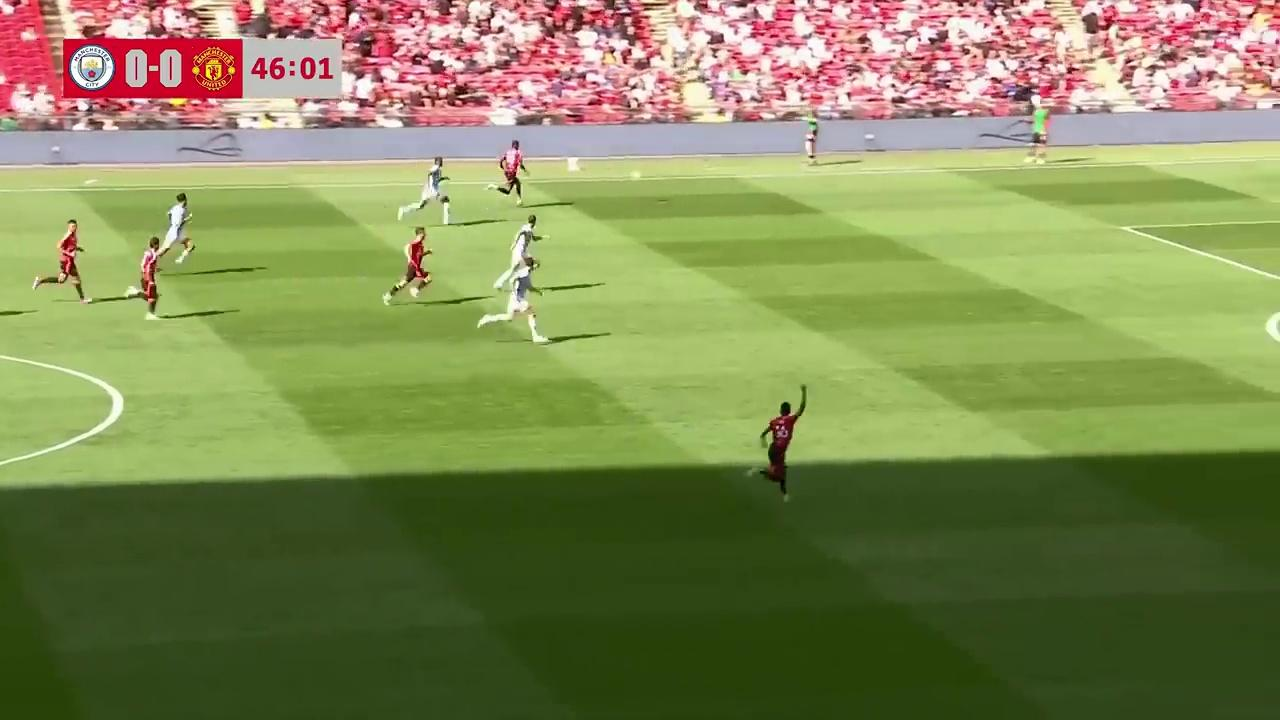ball: (565, 154, 583, 177)
player: (750, 398, 806, 503), (492, 258, 544, 341), (381, 226, 433, 305), (398, 153, 452, 223), (494, 215, 543, 289), (43, 219, 87, 300), (160, 192, 193, 264), (136, 239, 160, 318), (499, 135, 526, 205)
